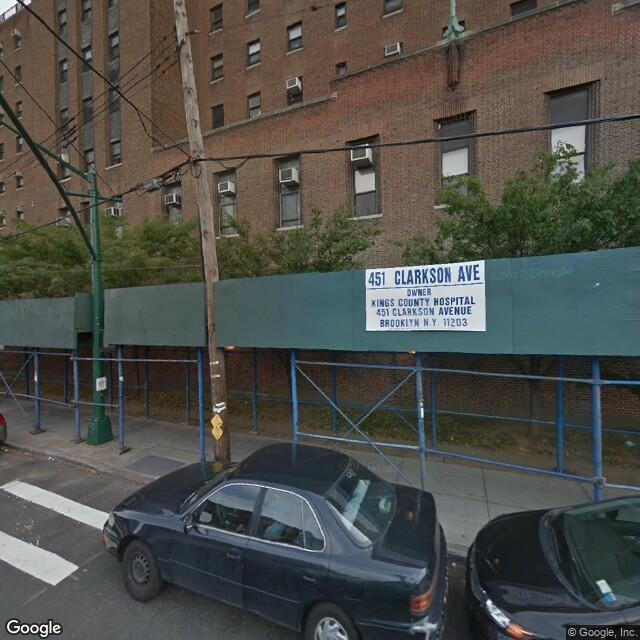litter: (622, 439, 635, 449), (45, 453, 55, 461), (451, 562, 458, 569)
